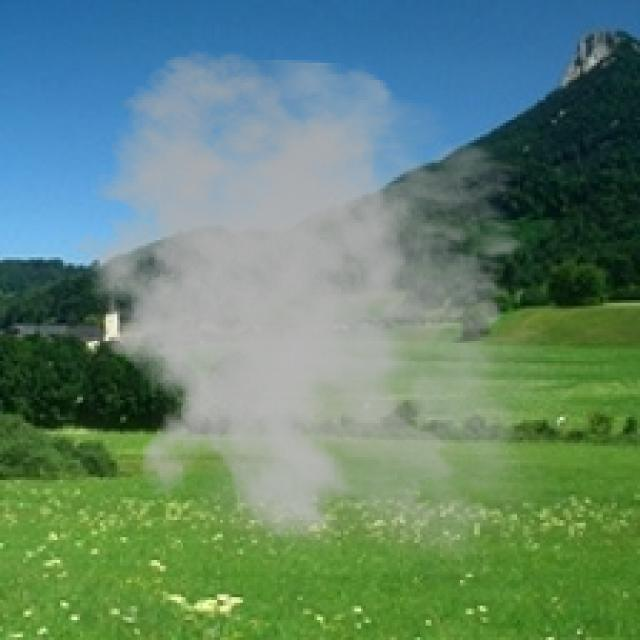Smoke: (54, 49, 586, 588)
